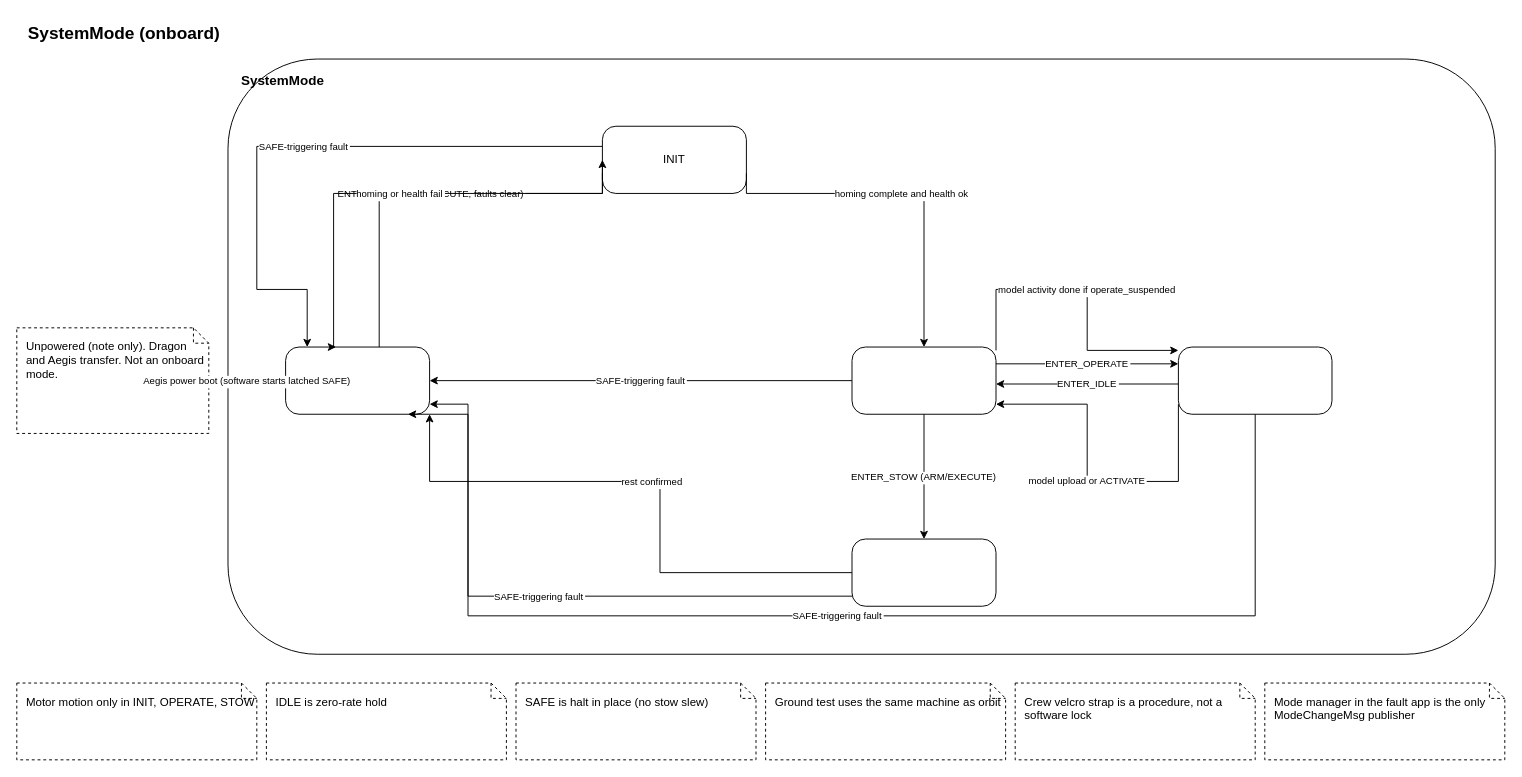
This 1522x777 diagram has some shape labels left out. Each missing label, with the box of its shape:
IDLE: (851, 346, 996, 414)
OPERATE: (1177, 346, 1332, 414)
SAFE: (285, 346, 430, 414)
STOW: (851, 538, 996, 606)
